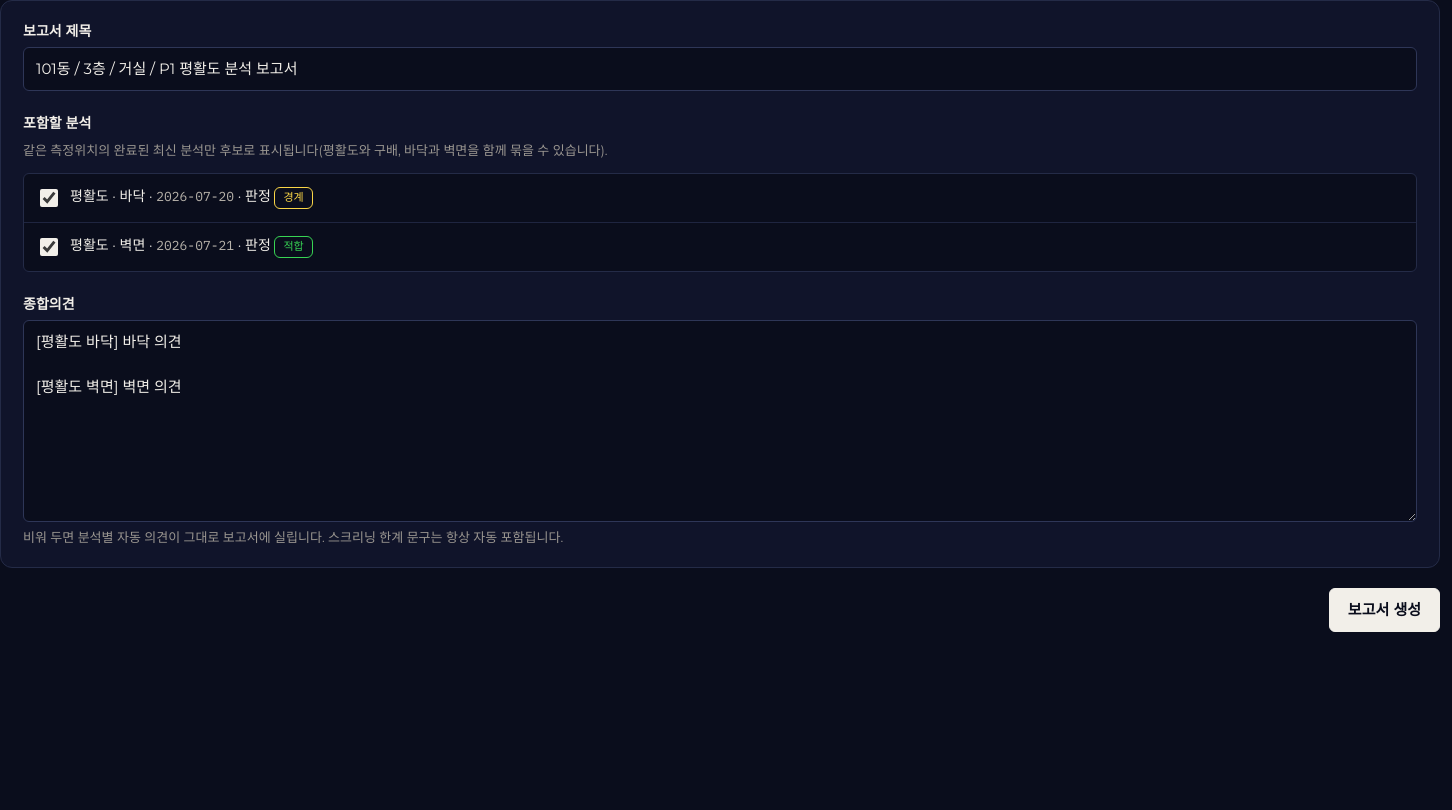
it: ReportCreateForm › 중복 엔큐(23505)는 안내 문구로 바꾸되, 보고서 상세로 이동해 재시도 경로를 찾게 한다(I3)
Click the button "보고서 생성" at (1384, 610), box [1329,588,1440,632]
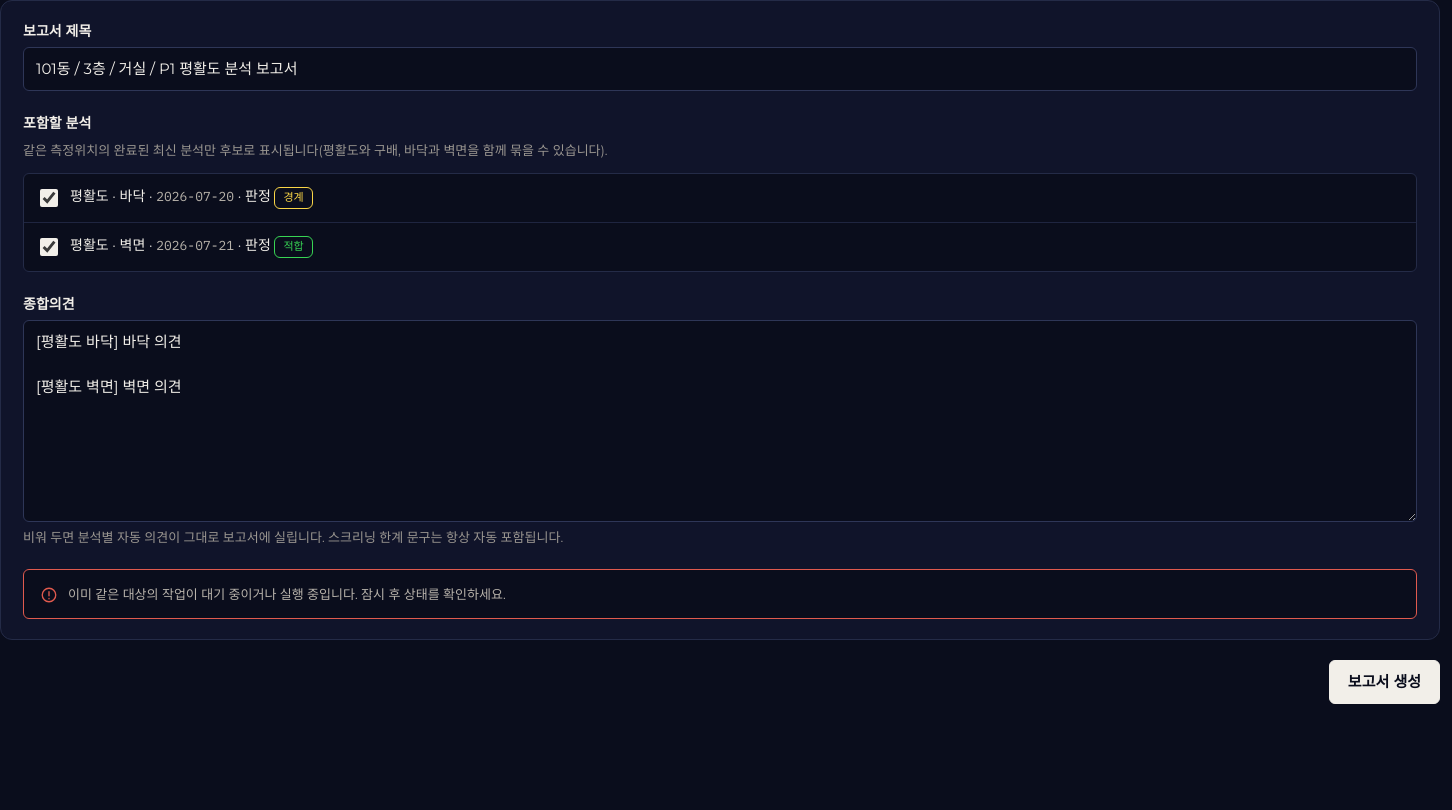
Expected: the text "이미 같은 대상의 작업이 대기 중이거나 실행 중입니다. 잠시 후 상태를 확인하세요." is shown, [68,586,506,602]
